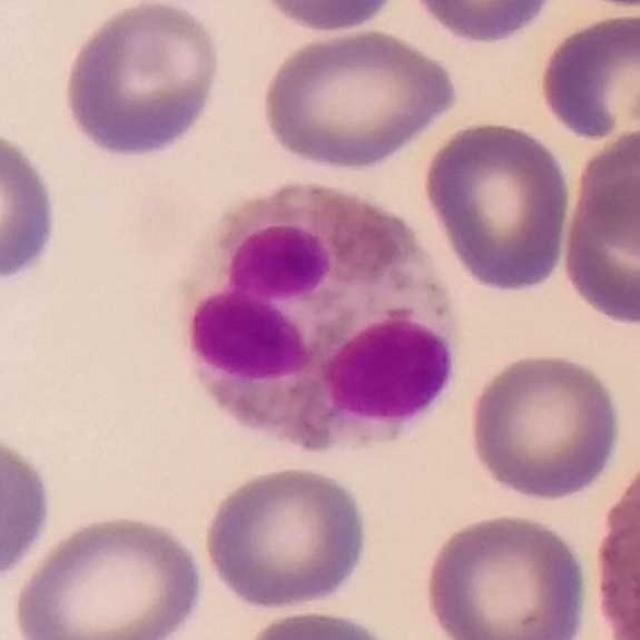eosino: (180, 180, 457, 452)
